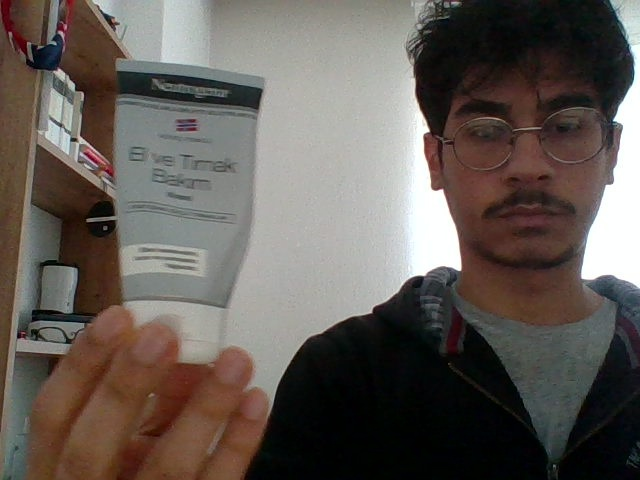Neutrogena: (113, 58, 260, 304)
